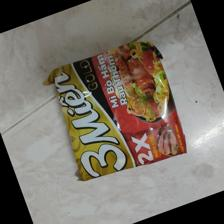3mien: (42, 42, 187, 183)
